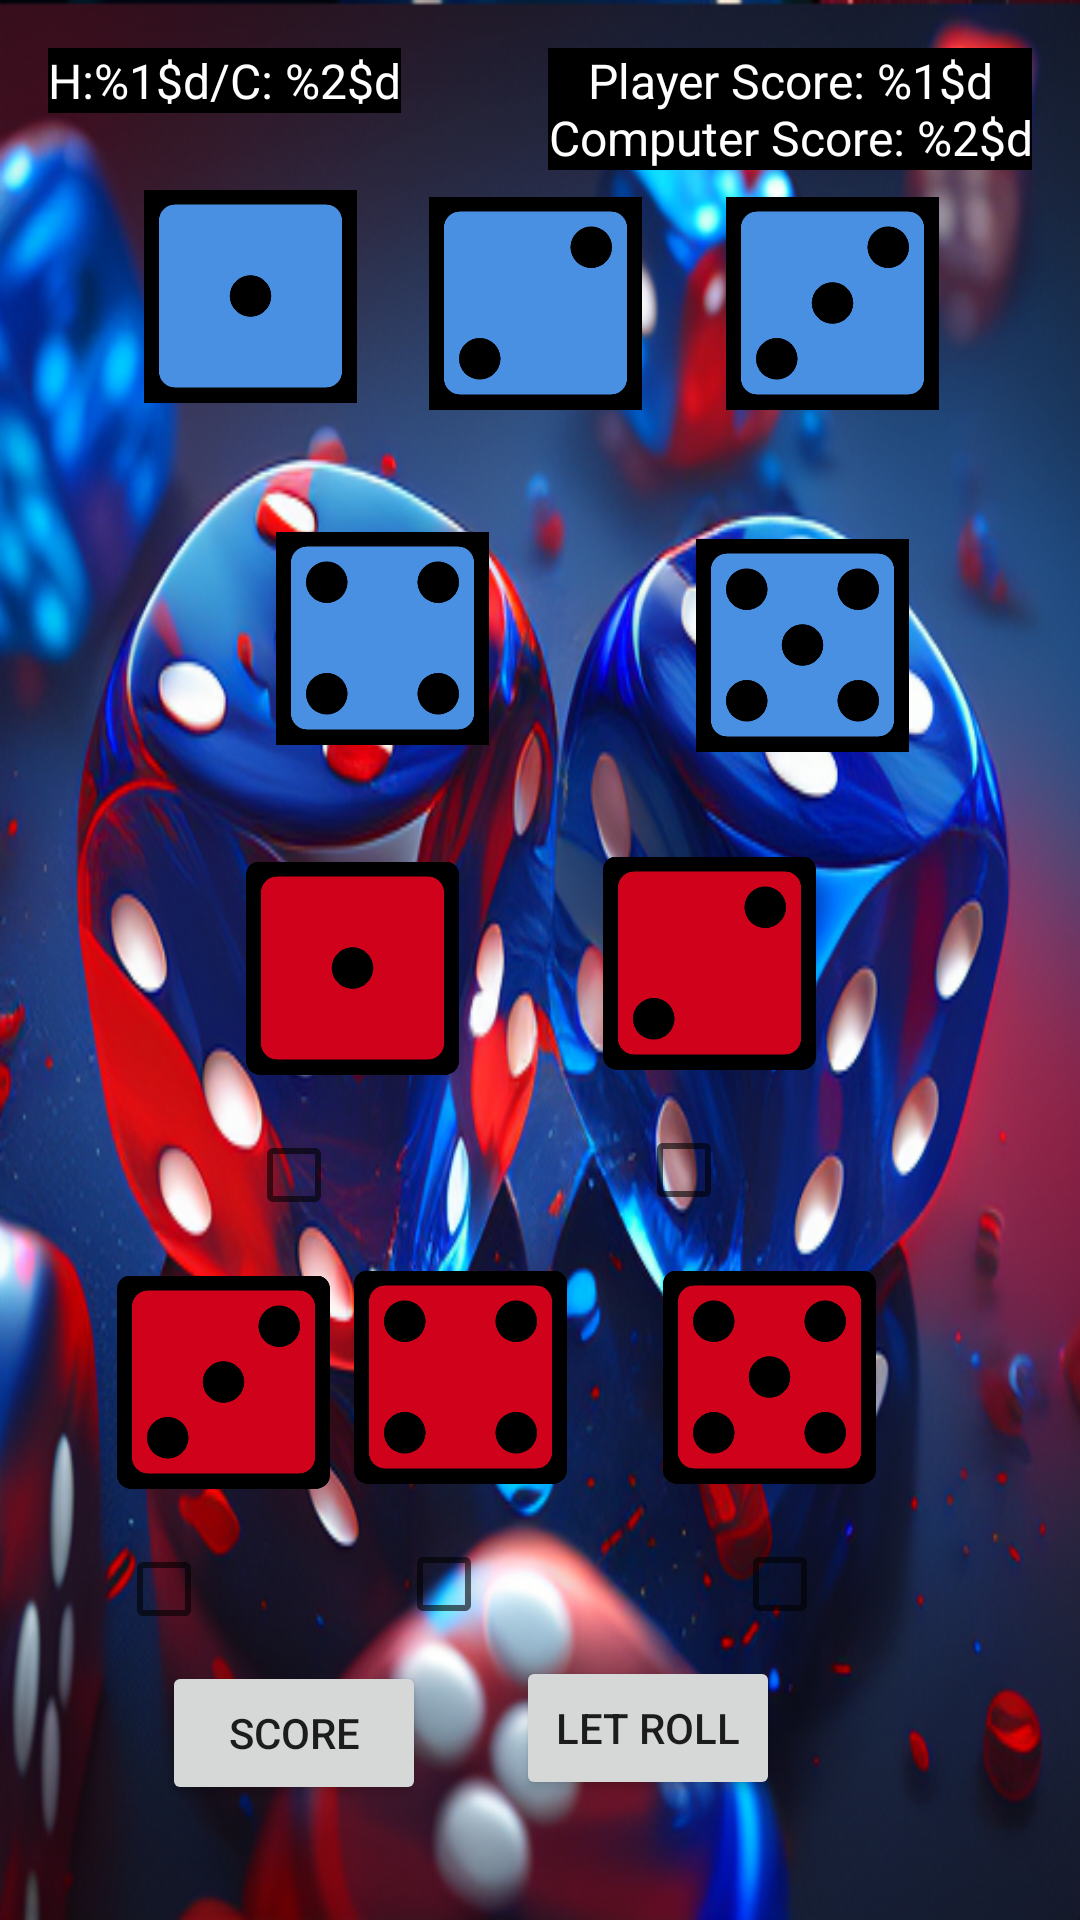

Point at icon controls on the screen. Image size 1080 × 1920, points as (x,y).
dice: (250,296), (535,303), (832,303), (382,638), (802,645)
pdice: (709,963), (352,968), (460,1377), (769,1377), (223,1382)
